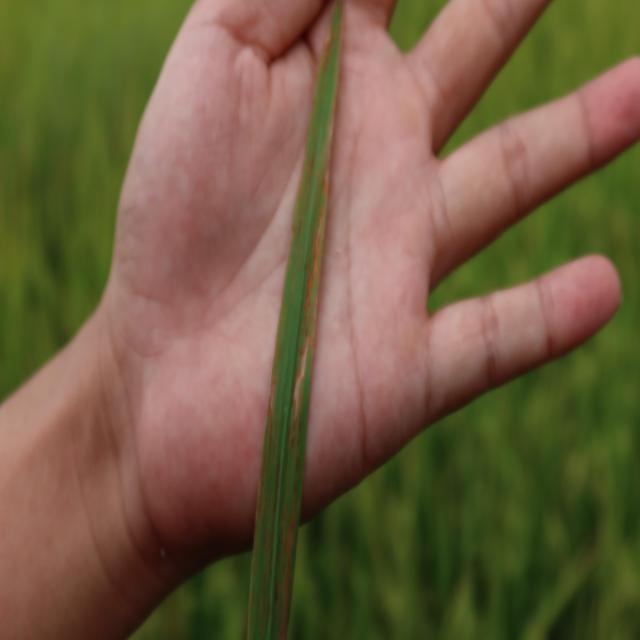Dom soc vi khuan: (304, 100, 336, 346), (291, 334, 311, 417)
